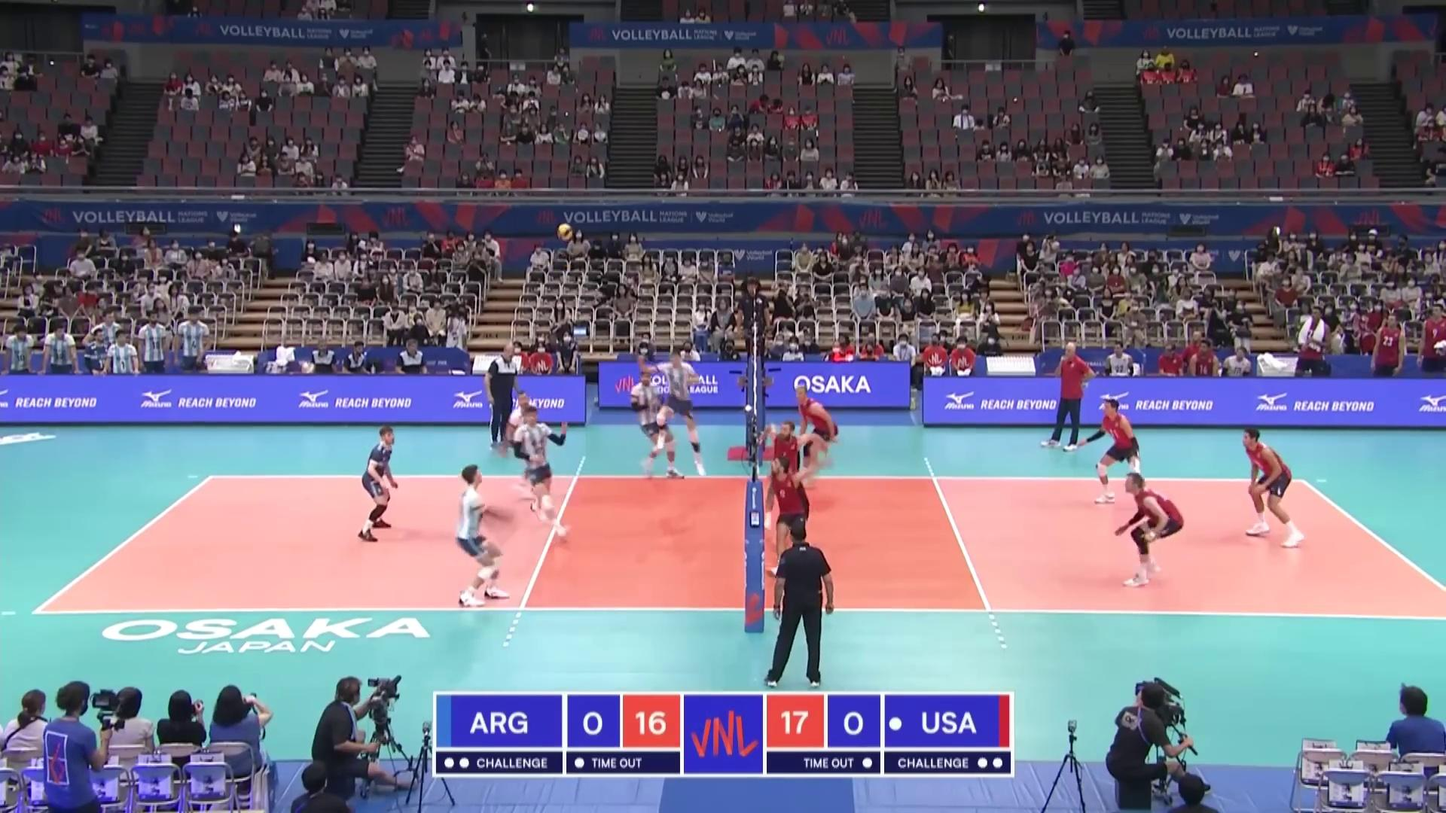player: (450, 464, 513, 610), (1111, 473, 1186, 590), (512, 407, 570, 540), (1240, 428, 1304, 547), (653, 350, 707, 478), (1086, 400, 1147, 505), (630, 369, 686, 481), (768, 455, 818, 578), (764, 420, 818, 533), (508, 391, 555, 513), (358, 425, 398, 545), (794, 387, 840, 491)
refree: (764, 525, 835, 688)
